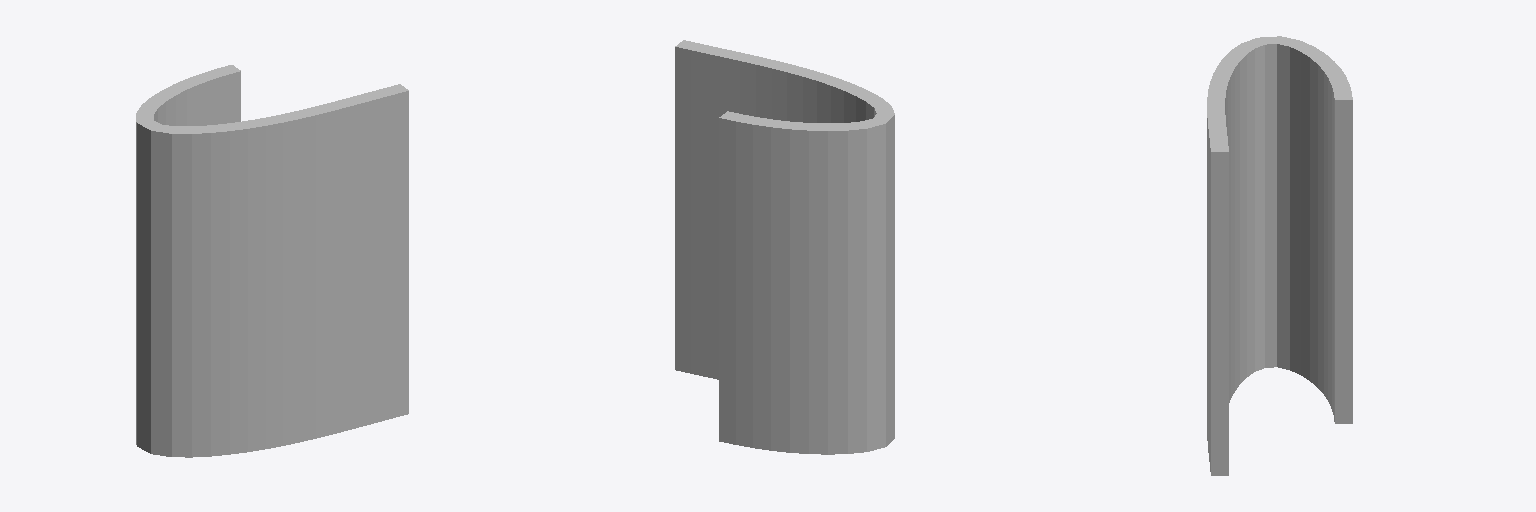
File: SimpleFold1.obj
The picture shows the model from 3 angles: view 1: azimuth 30°, elevation 25°; view 2: azimuth 150°, elevation 25°; view 3: azimuth 270°, elevation 25°; orthographic projection.
Parts seen in each view (by area): view 1: Cube; view 2: Cube; view 3: Cube.
Part boxes in pixels (bbox=[...]): Cube: bbox=[136, 65, 408, 457]; Cube: bbox=[675, 40, 894, 454]; Cube: bbox=[1207, 36, 1352, 475].
Size of the model in its own units: 3.72 by 4.84 by 1.98.